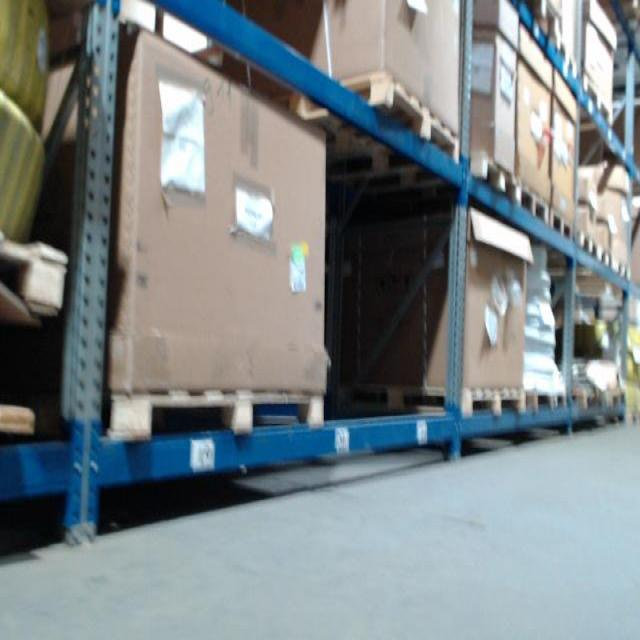pallet: (268, 67, 462, 172), (106, 385, 328, 443), (339, 379, 527, 421), (468, 144, 520, 204), (580, 73, 614, 125), (517, 180, 550, 229), (526, 387, 569, 415), (552, 32, 578, 77), (550, 205, 573, 242), (576, 229, 601, 261), (614, 260, 631, 281), (599, 247, 614, 270)
